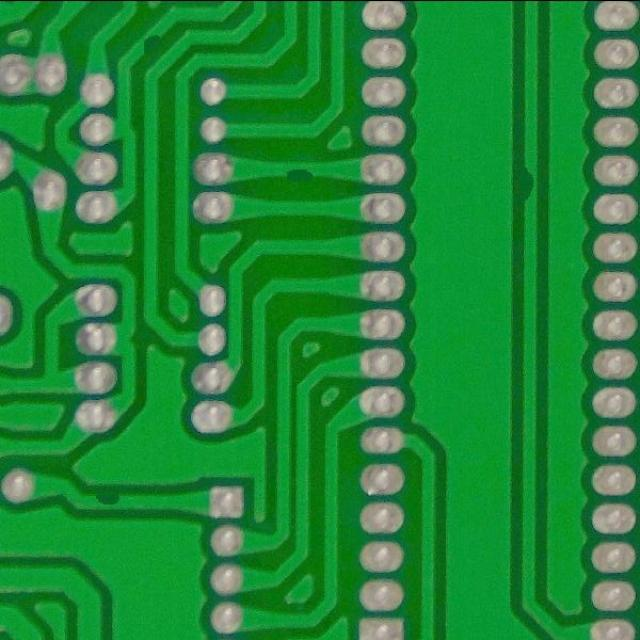MouseBite: (516, 159, 544, 210), (274, 157, 323, 184), (86, 487, 132, 512), (134, 28, 168, 58)
